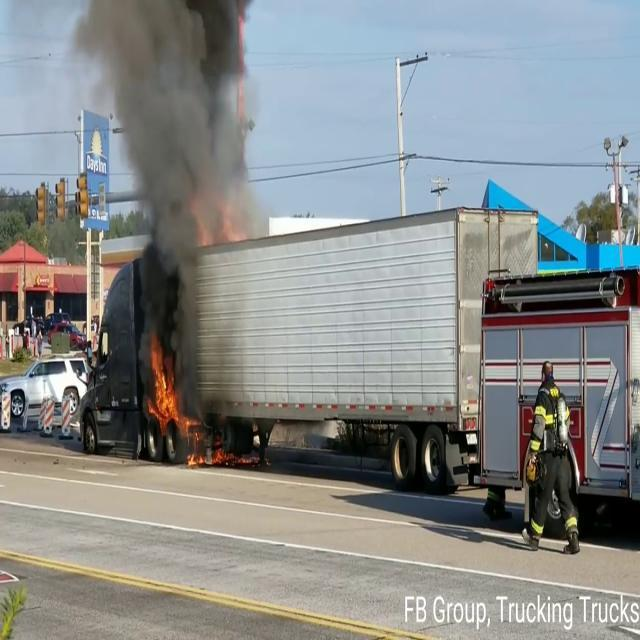Fire: (146, 332, 182, 438)
Smoke: (86, 1, 272, 443)
